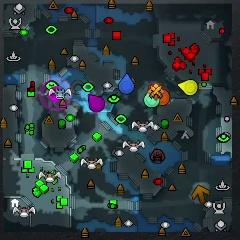Other: (148, 84, 164, 100), (48, 86, 63, 103)
p1: (118, 74, 134, 94)
p2: (144, 89, 160, 107)
p3: (88, 94, 105, 112)
p4: (178, 80, 198, 96)
p5: (154, 87, 170, 106)
x5: (192, 185, 210, 204)
